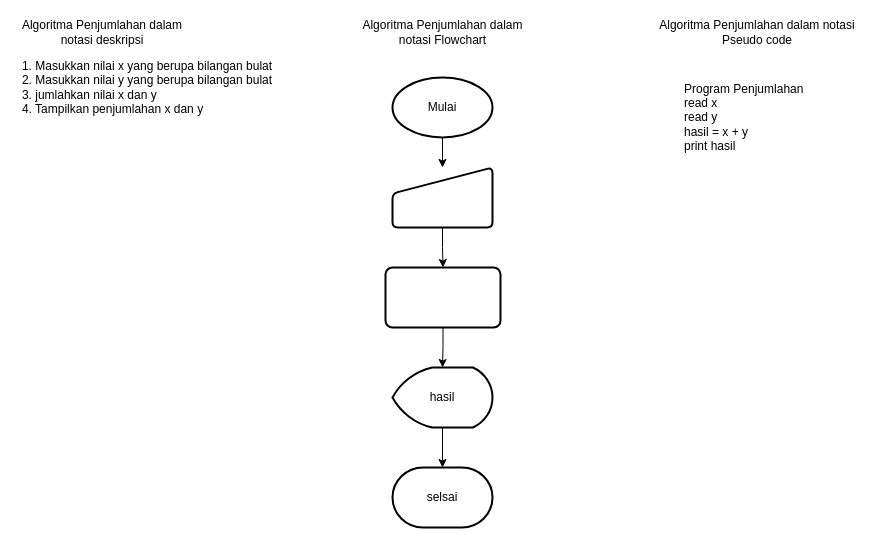
This 874x545 diagram has some shape labels left out. The centre of each missing label's shape, as x and y in pixels:
"hasil = x + y" belongs at point 442,297.
"x, y" belongs at point 442,197.
